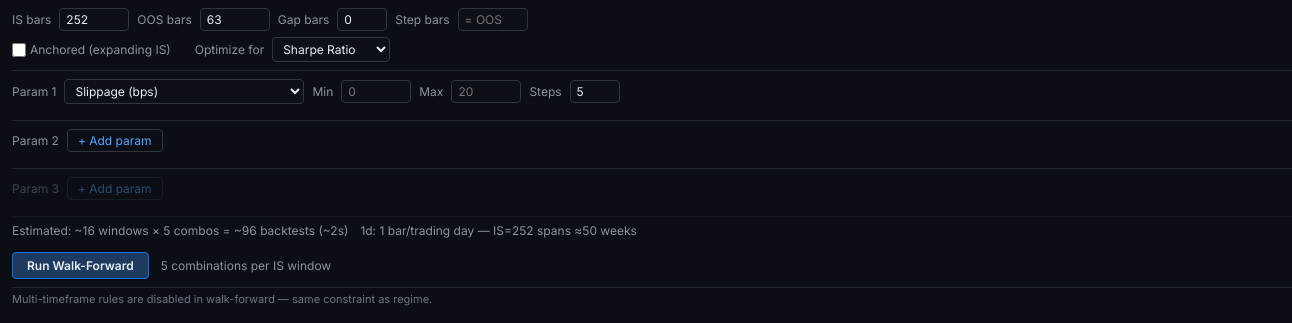
WalkForwardPanel › validates empty is_bars
Clear the 1st number field at (94,20), box [59, 8, 129, 31]
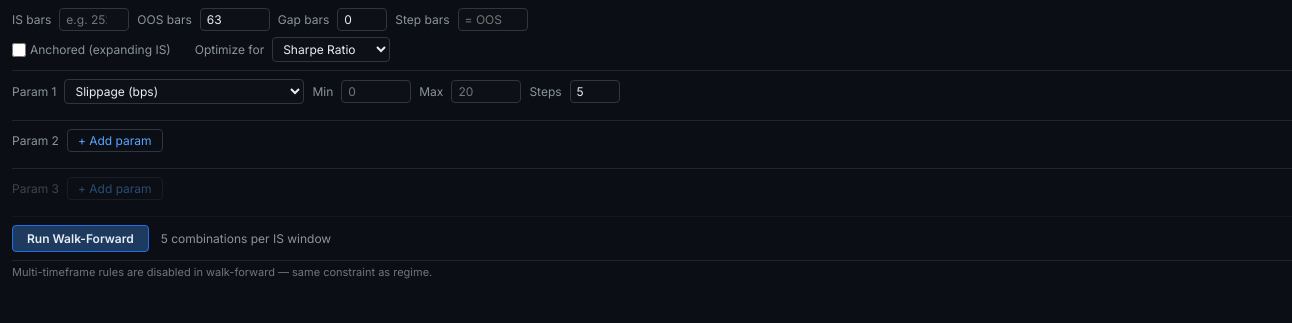
Click the button "Run Walk-Forward".
click(80, 238)  # box [12, 225, 149, 252]
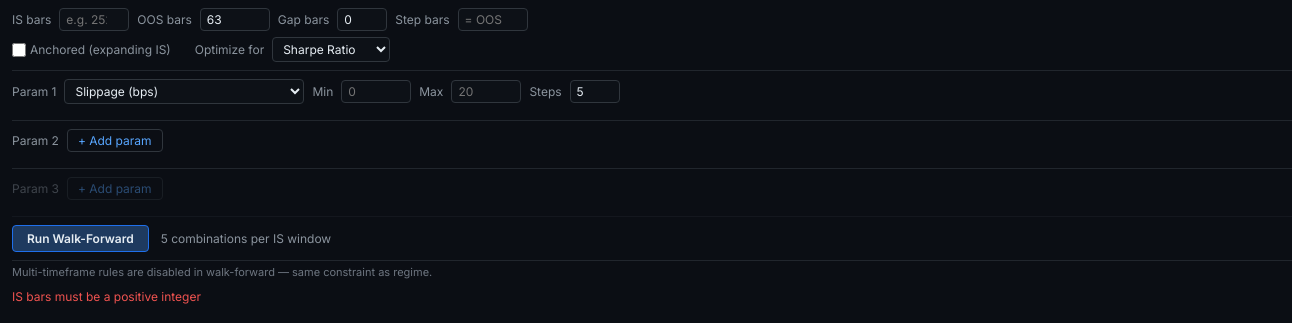
Now the text "IS bars must be a positive integer" is shown, box [12, 289, 201, 304]
